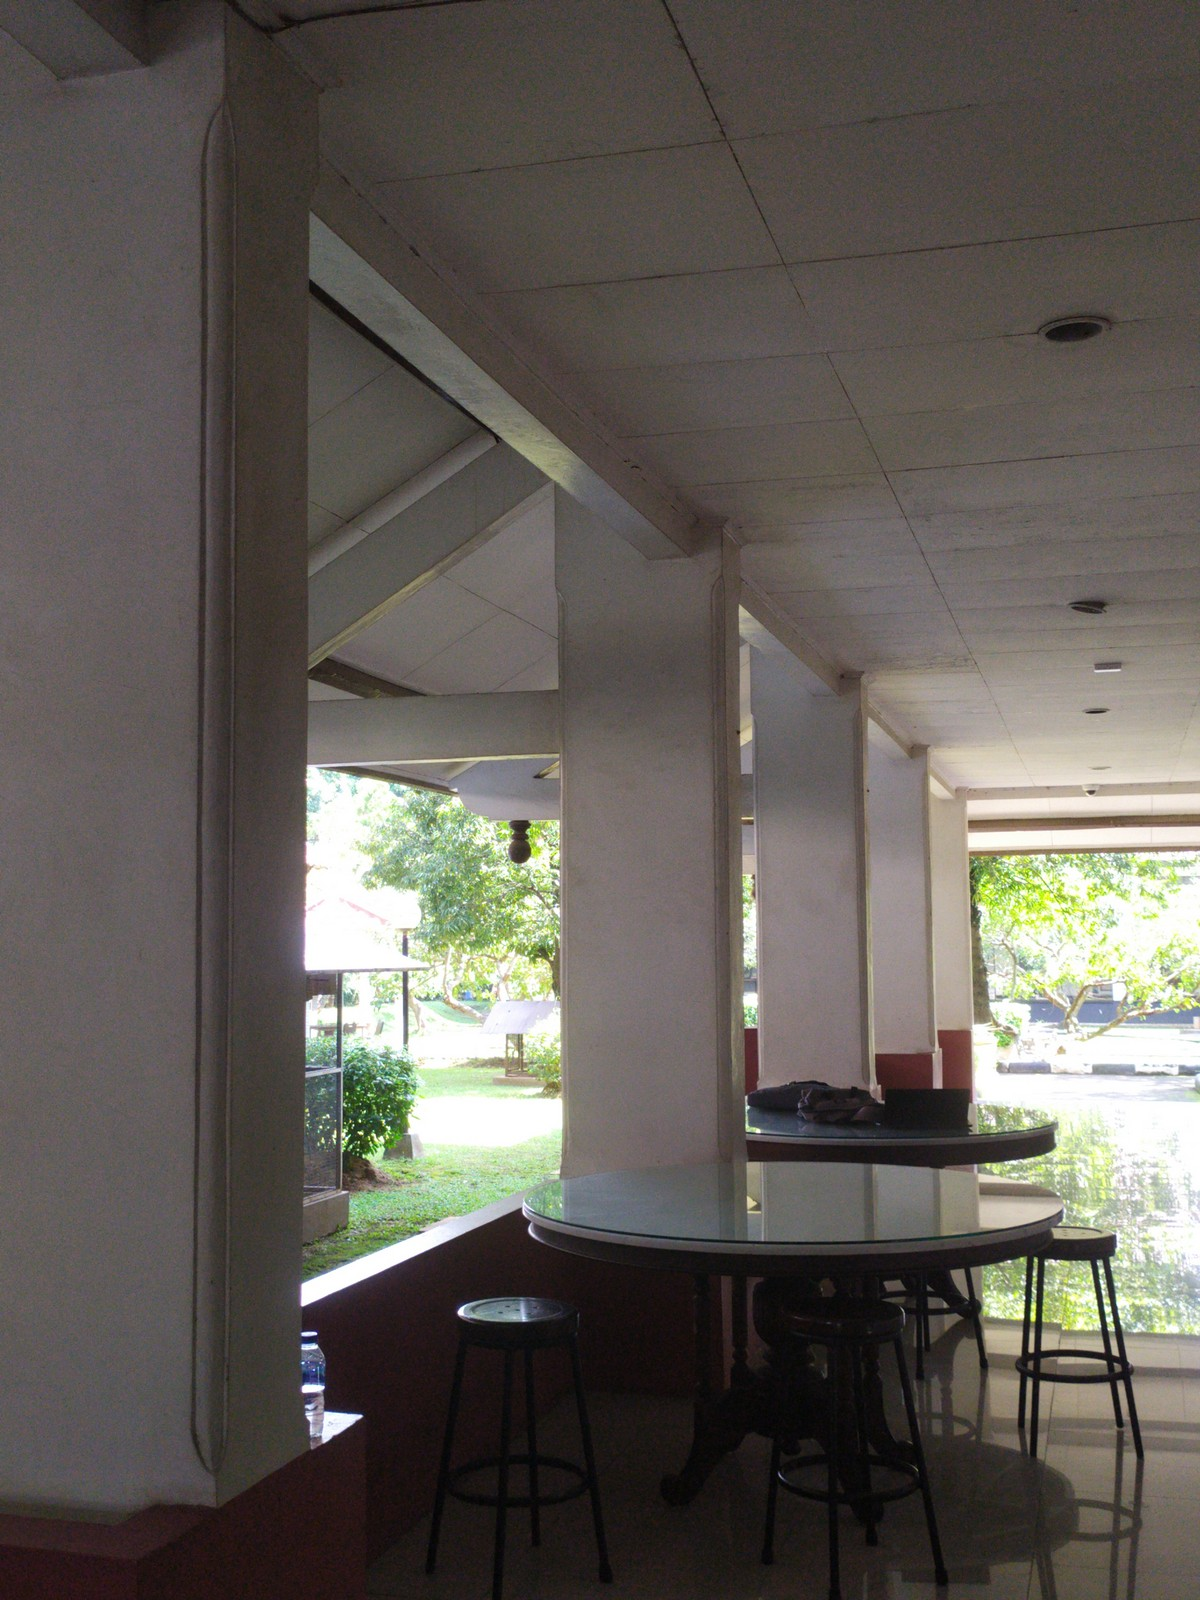concrete beam: (310, 682, 568, 777)
concrete column: (10, 21, 337, 1517), (545, 475, 761, 1163), (747, 612, 880, 1105), (863, 708, 949, 1112)
